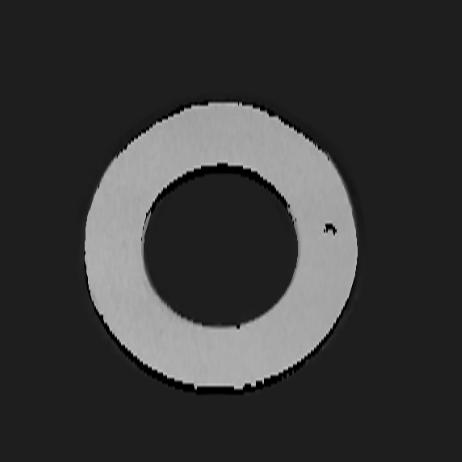defect: (323, 220, 337, 238)
